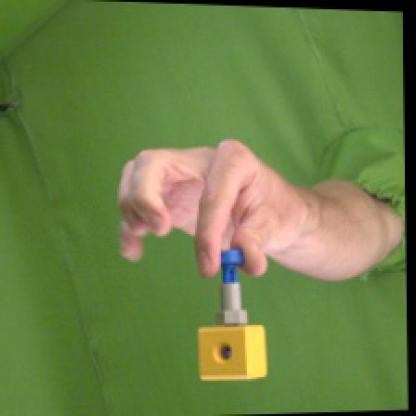Hand: (116, 138, 306, 278)
